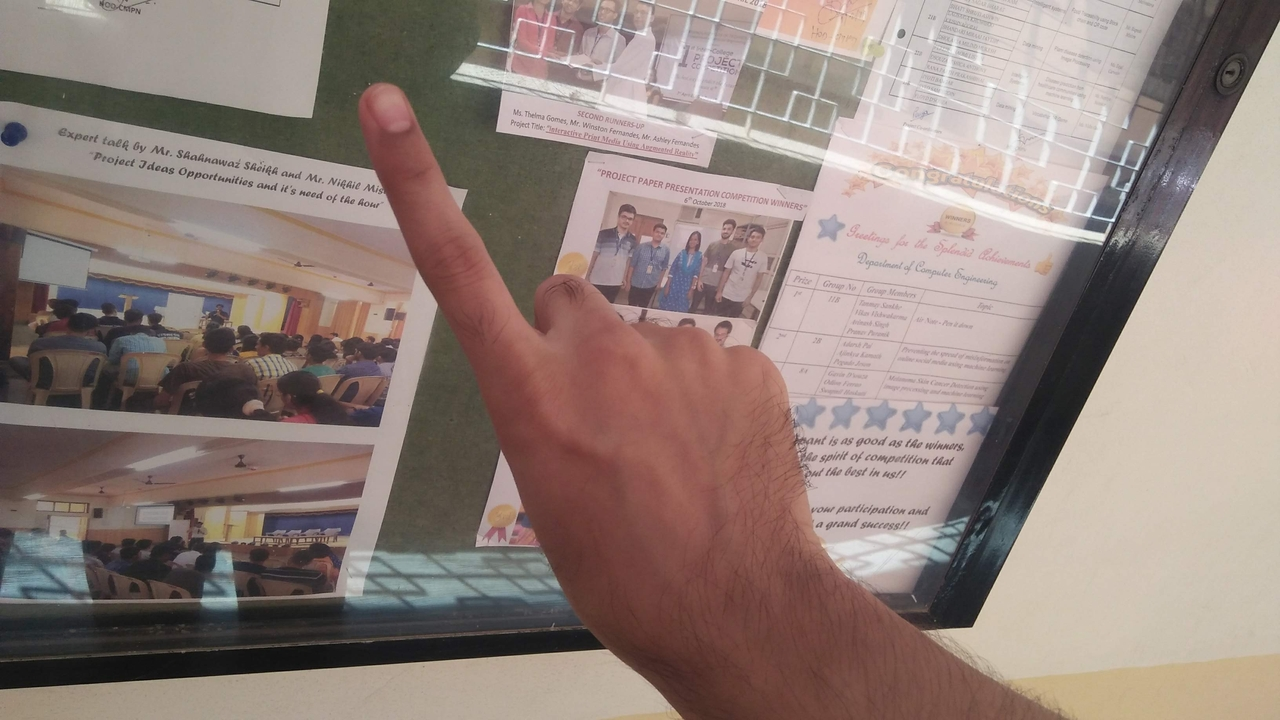fingertip: (350, 80, 414, 140)
